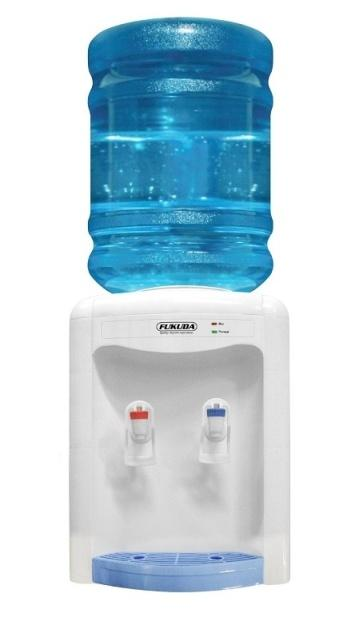Dispenser: (68, 16, 291, 593)
